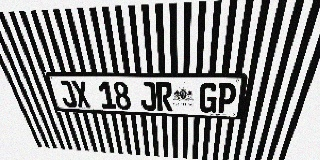1: (97, 81, 117, 109)
8: (112, 81, 131, 110)
G: (199, 83, 218, 113)
J: (56, 80, 78, 107), (139, 82, 157, 111)
P: (216, 83, 238, 114)
R: (156, 82, 173, 111)
X: (71, 81, 92, 108)
